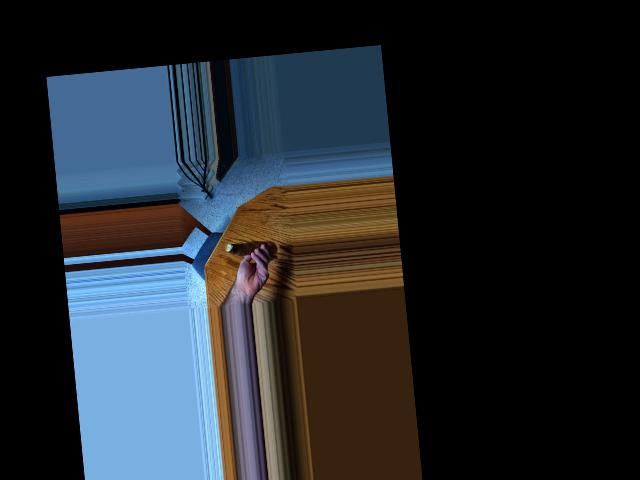sweet_potato: (223, 240, 268, 256)
